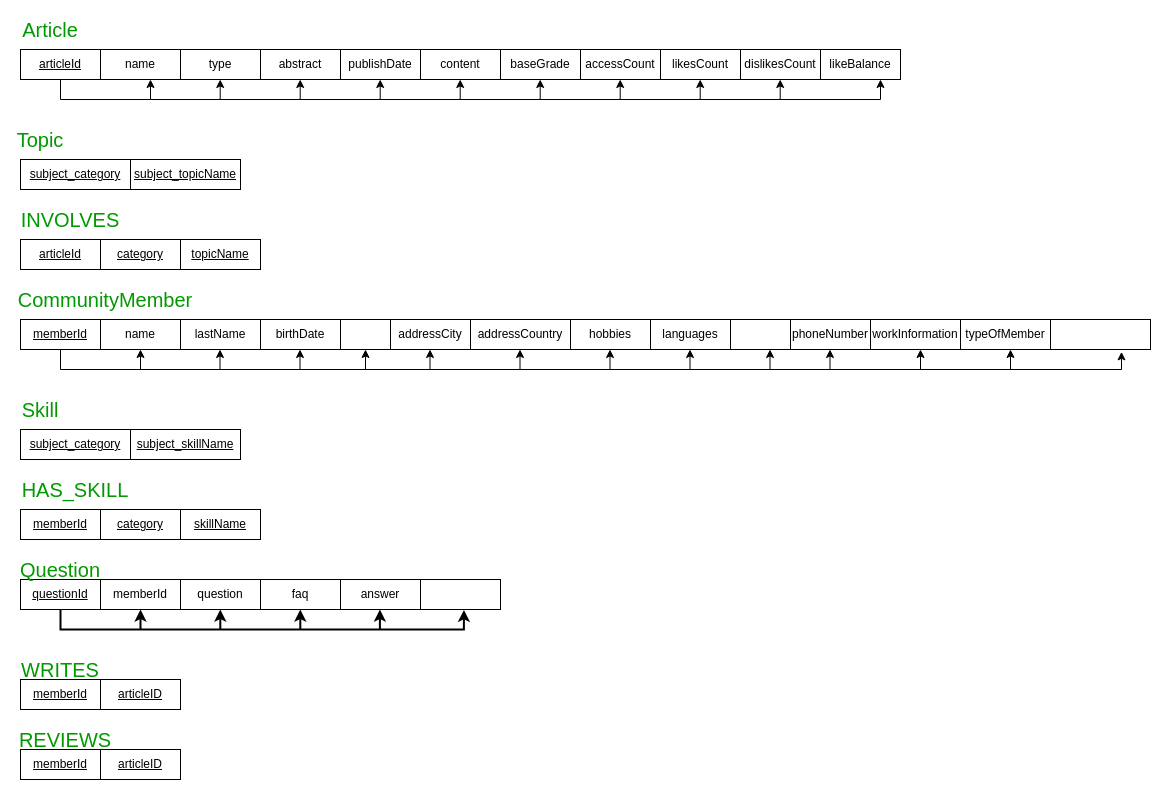
Image size: 1168x797. Some labels were removed from this diagram. The shapes that lost their labels are listed below. From the top down, each one's centre as x and y in pixels, then its label:
At point 365,334: "age".
At point 760,334: "email".
At point 1100,334: "totalQualification".
At point 460,594: "status".
